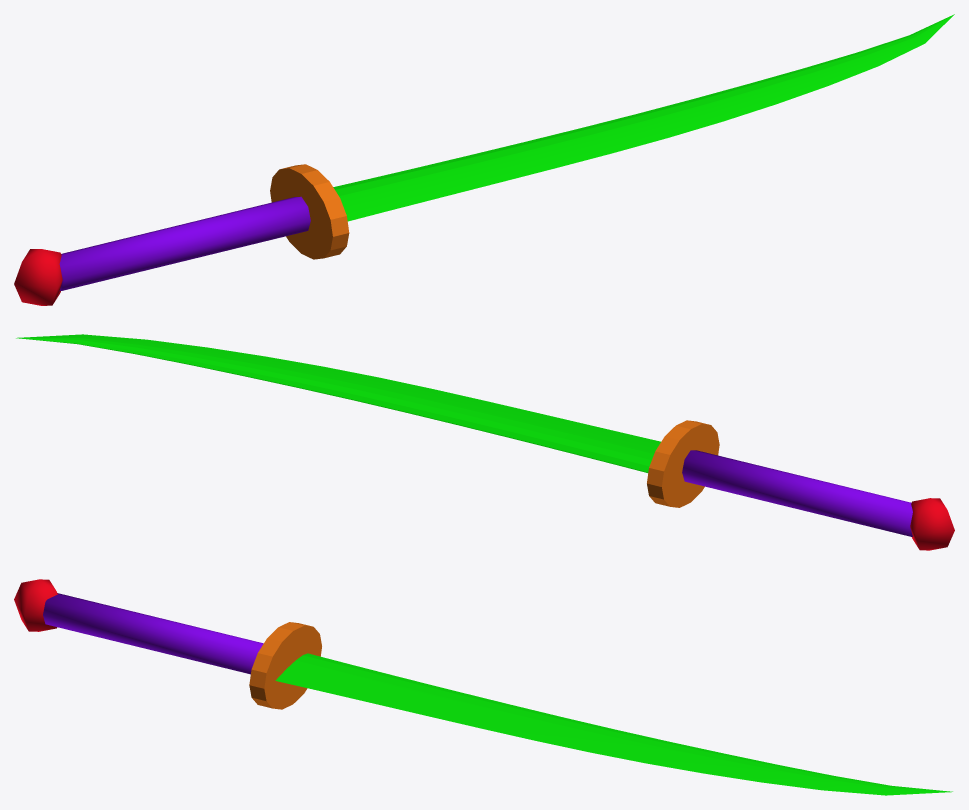
Rendered from SwordLOD2.fbx.
3 renders of one model, top to bottom at view 1: azimuth 30°, elevation 25°; view 2: azimuth 150°, elevation 25°; view 3: azimuth 330°, elevation 25°, orthographic. The views are drawn at different scales.
Visible parts, largest first — view 1: SwordLOD2; view 2: SwordLOD2; view 3: SwordLOD2.
Boxes of the visible parts, box(x1,y1,x2,y2) form: SwordLOD2: box(14, 14, 954, 305); SwordLOD2: box(16, 334, 954, 550); SwordLOD2: box(14, 579, 952, 795).
Size of the model in its own units: 361 by 28 by 46.32.
